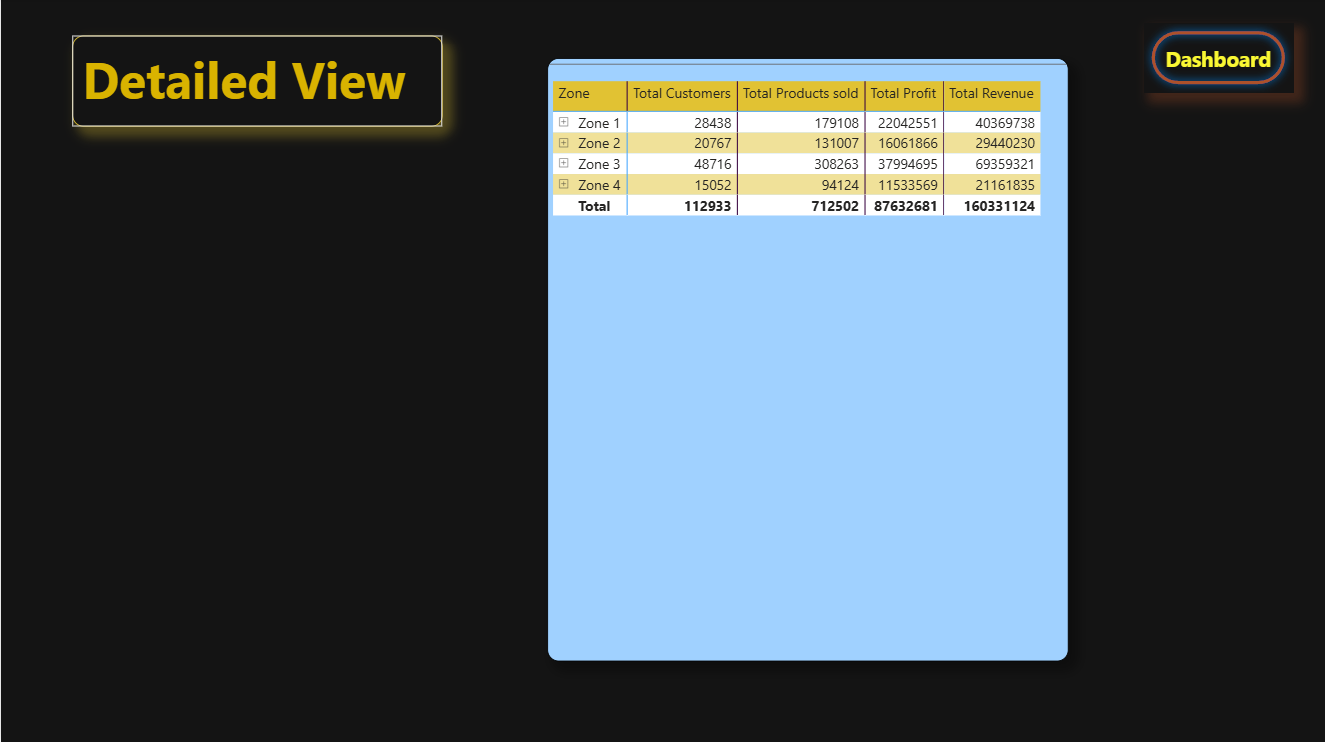

The dashboard page shown, as its layout file describes it:
{"tool":"powerbi","page":{"name":"Drill Through","canvas":[1280,720],"ordinal":6},"visuals":[{"type":"textbox","box":[68.9,36.7,357.6,88.1],"z":0},{"type":"pivotTable","fields":{"Rows":["Data.Zone","Customer Data.Location","Customer Data.Customer Age","Customer Data.Customer Gender"],"Values":["All Measure.Total Customers","All Measure.Total Products sold","All Measure.Total Profit","All Measure.Total Revenue"]},"box":[527.2,57.9,503.1,582.7],"z":1000},{"type":"actionButton","box":[1102.2,24.4,144.4,66.9],"z":2000}]}

Visuals, with their boxes in screenshot pixels (x1, y1, x2, y2), scaled from the page's 1280x720 canvas onto the 1325x742 screenshot:
textbox: pyautogui.locateOnScreen(71, 38, 441, 129)
pivotTable - Data.Zone x Customer Data.Location: pyautogui.locateOnScreen(546, 60, 1067, 660)
actionButton: pyautogui.locateOnScreen(1141, 25, 1290, 94)
